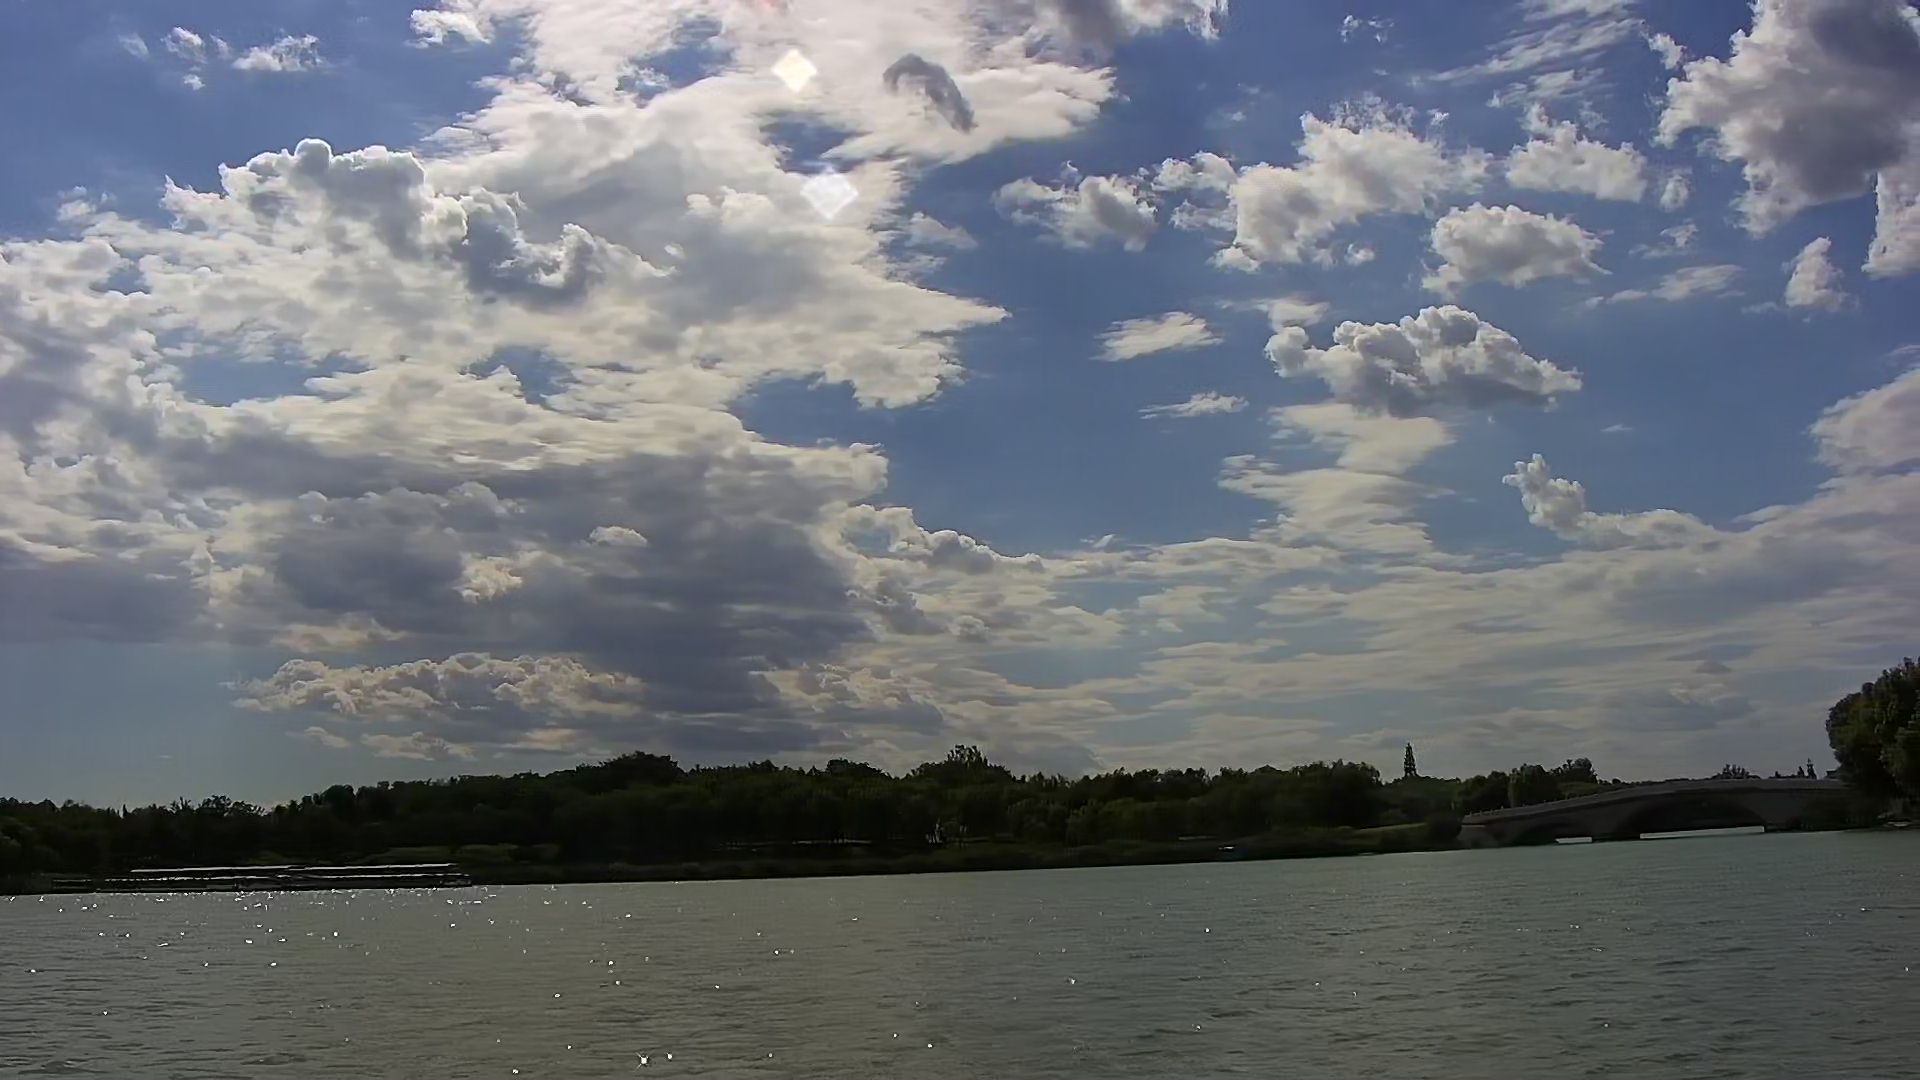bridge: (1433, 773, 1920, 843)
harbor: (123, 853, 469, 891)
